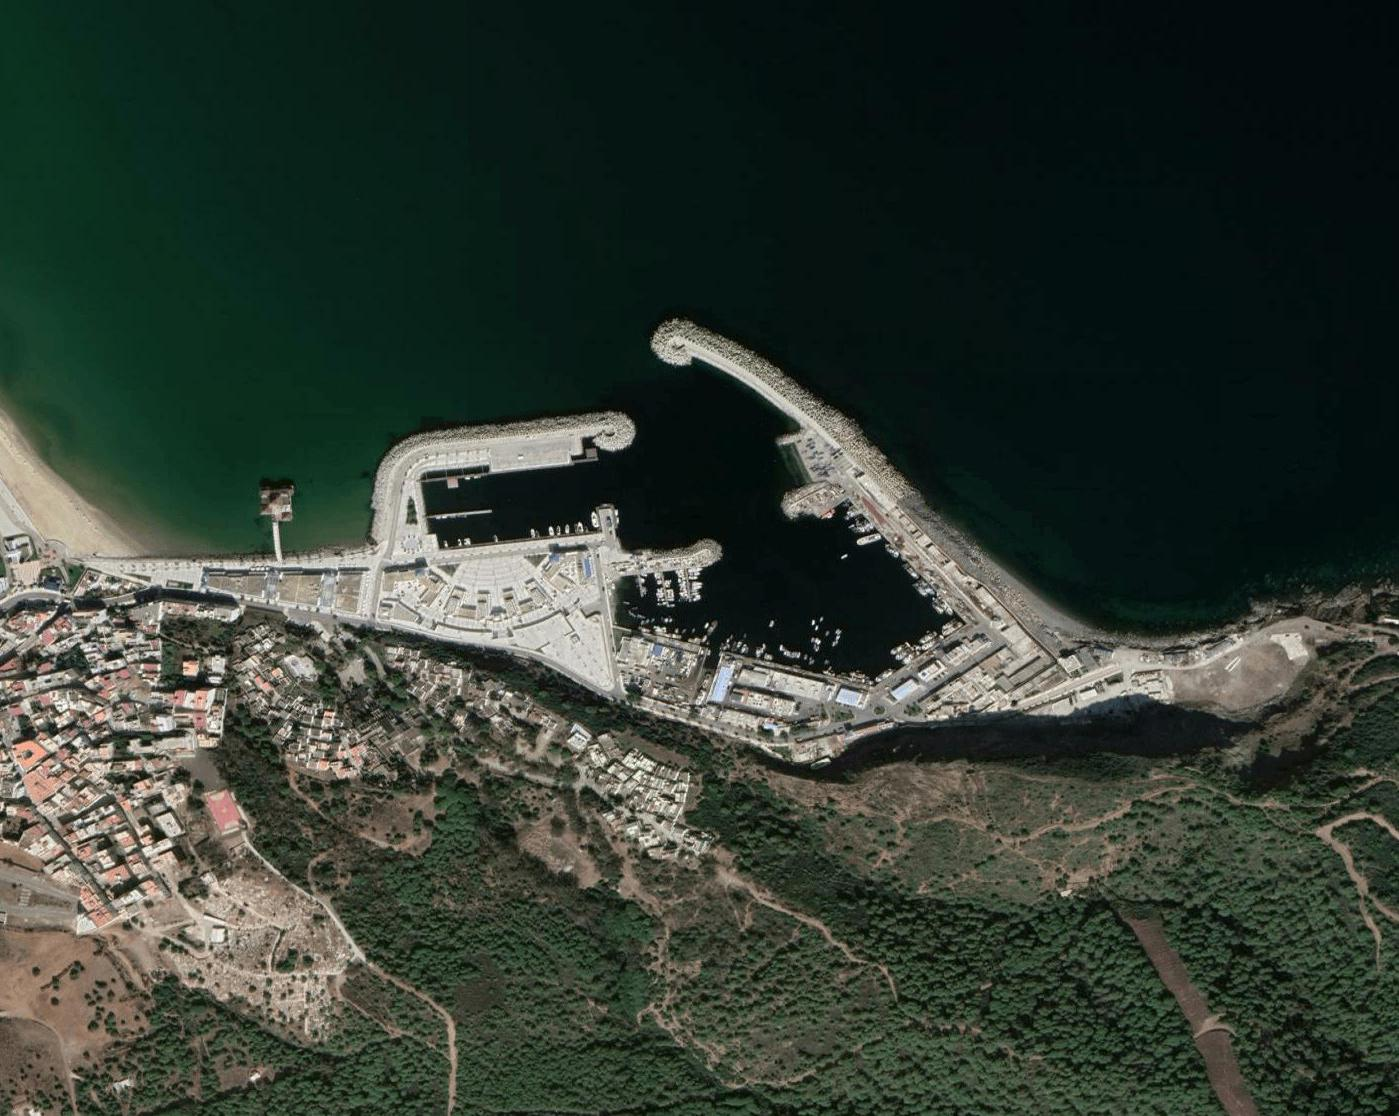harbor: (338, 294, 1018, 771)
